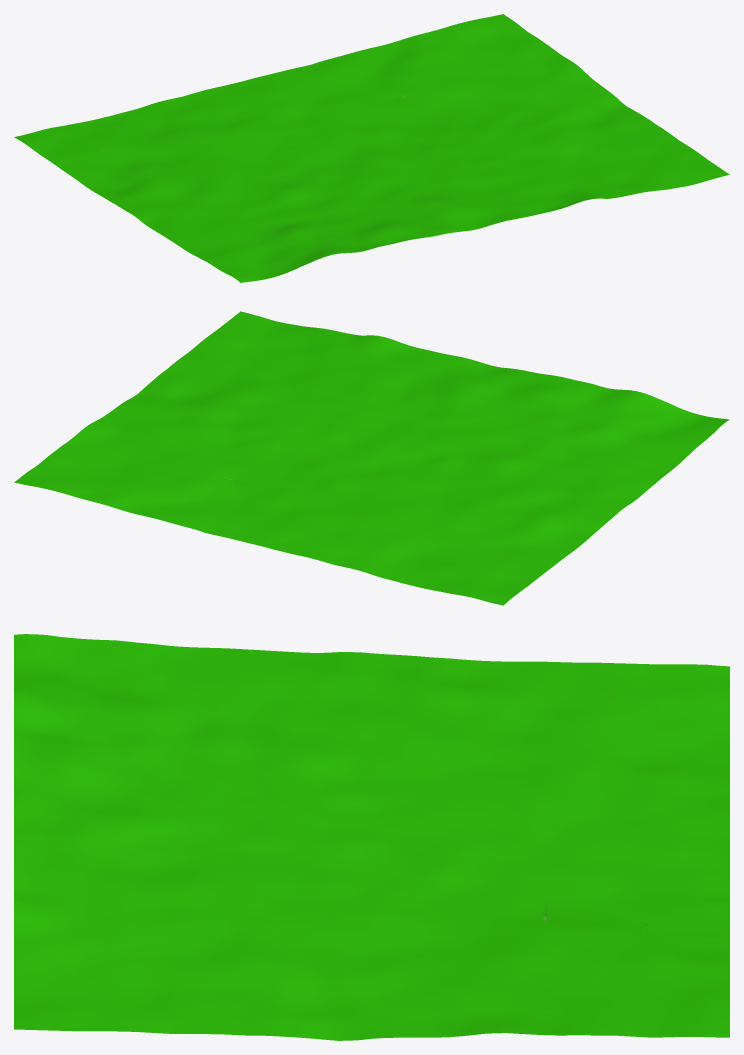
Rendered from terreno3v3.fbx.
3 renders of one model, top to bottom at view 1: azimuth 30°, elevation 25°; view 2: azimuth 150°, elevation 25°; view 3: azimuth 270°, elevation 25°, orthographic. The views are drawn at different scales.
Visible parts, largest first — view 1: EXPORT_GOOGLE_SAT_WM; view 2: EXPORT_GOOGLE_SAT_WM; view 3: EXPORT_GOOGLE_SAT_WM.
Part boxes in pixels (<box>): EXPORT_GOOGLE_SAT_WM: <box>14,14,729,282</box>; EXPORT_GOOGLE_SAT_WM: <box>14,311,729,605</box>; EXPORT_GOOGLE_SAT_WM: <box>14,634,729,1040</box>.
Size of the model in its own units: 459820 by 25294 by 368840.
Materials: 1 (1 with a texture image).
